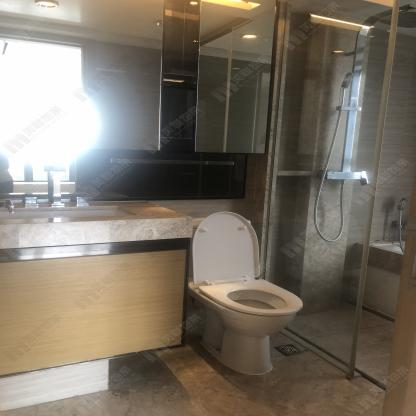Toilet: (188, 213, 304, 374)
Toilet Sink: (1, 200, 193, 249)
